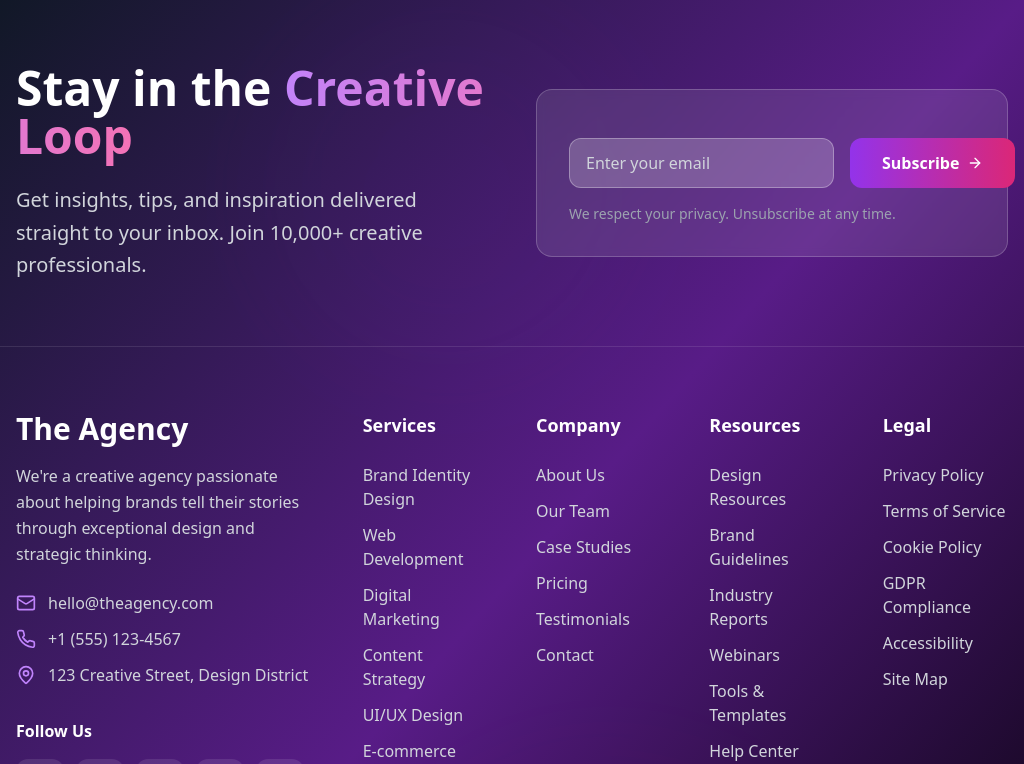
EnhancedFooter newsletter › validates the email instead of submitting the page
Type "not-an-email" into the field named "Email address". click: (702, 163)
box: [569,138,834,188]
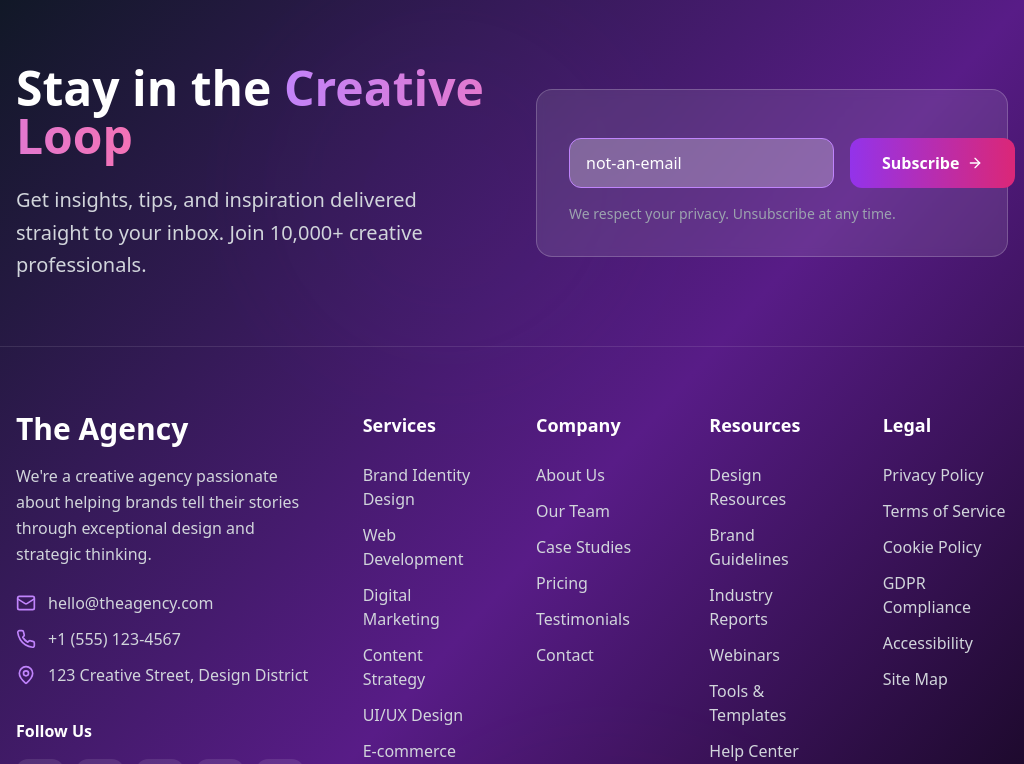
Click the button "Subscribe". click: (933, 163)
box: [850,138,1015,188]
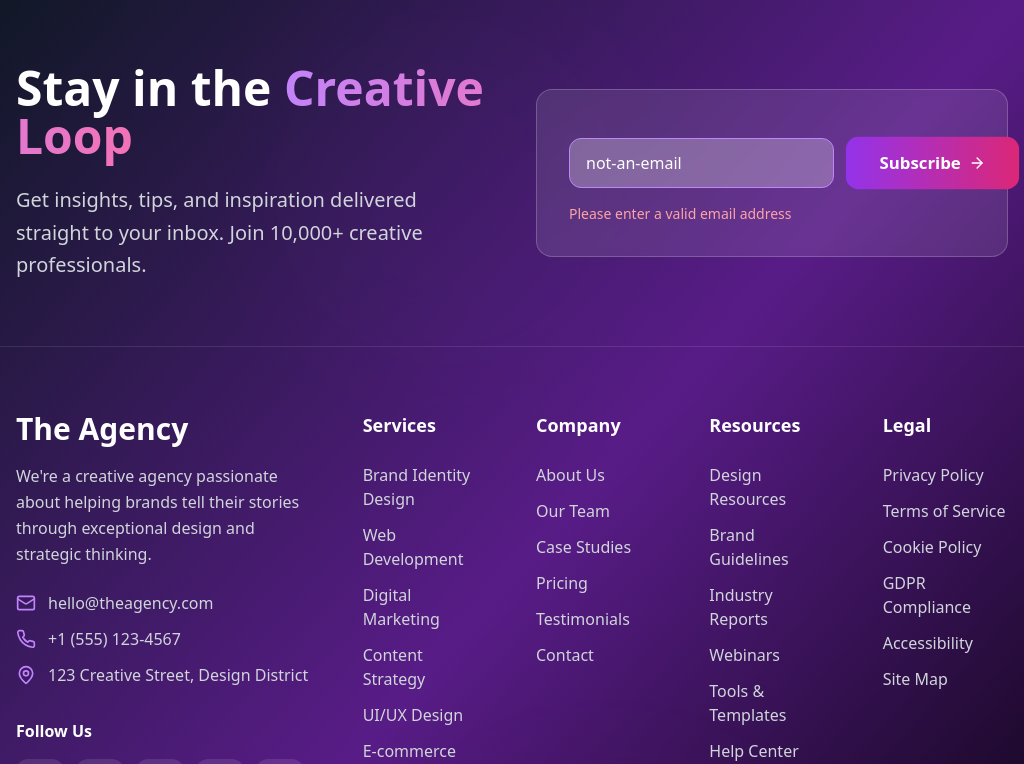
Result: the message reads "Please enter a valid email address" at [569,204,792,223]
